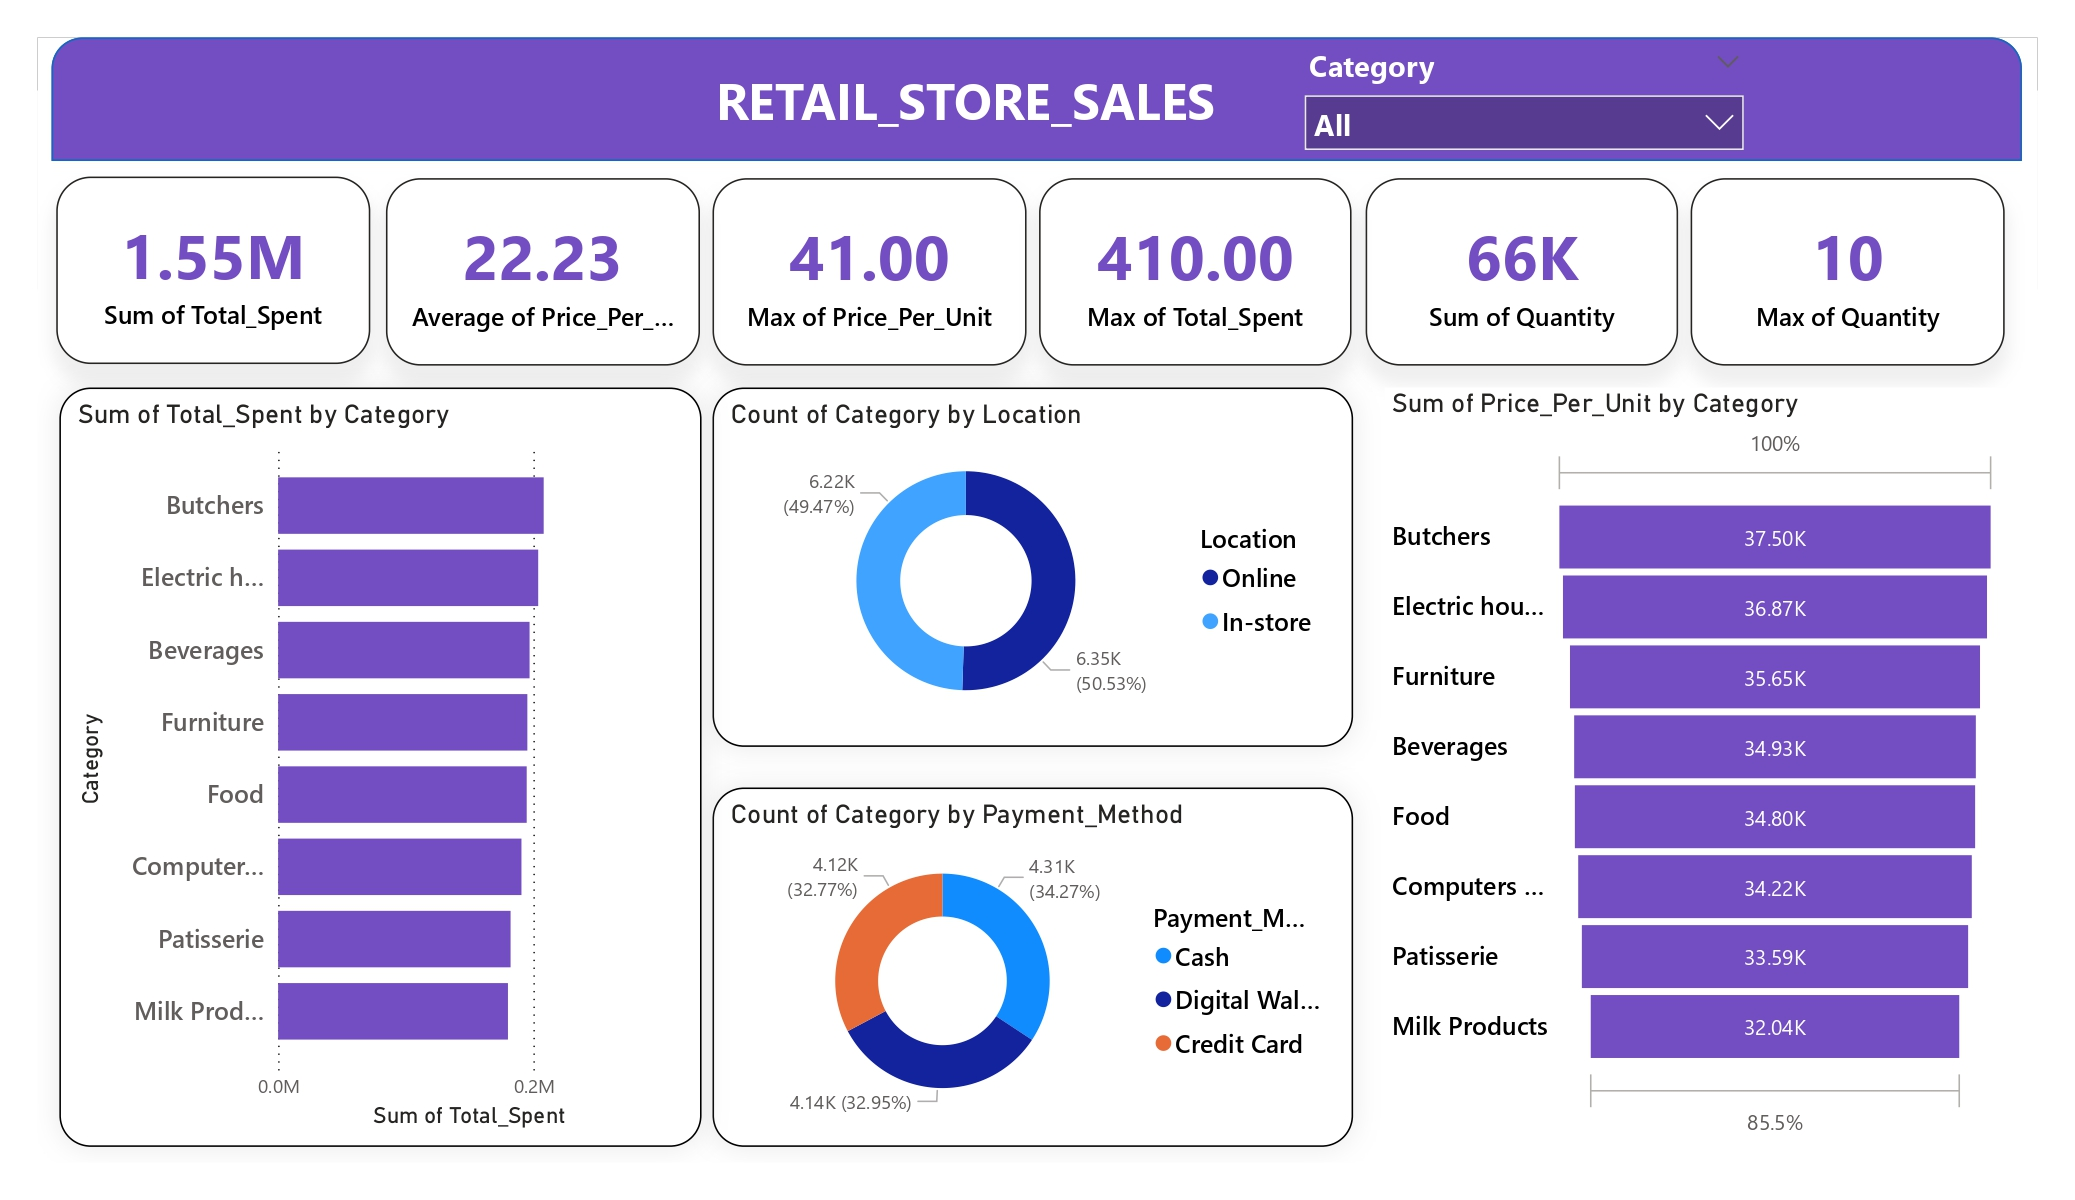

This screenshot's page, from the dashboard's own definition file:
{"tool":"powerbi","page":{"name":"Page 1","canvas":[1280,720],"ordinal":0},"visuals":[{"type":"card","fields":{"Values":["Sum(Sales.Total_Spent)"]},"box":[12.4,88.7,200.8,120],"z":0},{"type":"card","fields":{"Values":["Sum(Sales.Quantity)"]},"box":[849.5,90.3,200.8,120],"z":1000},{"type":"card","fields":{"Values":["Max(Sales.Price_Per_Unit)"]},"box":[431.8,90.3,200.8,120],"z":2000},{"type":"card","fields":{"Values":["Avg(Sales.Price_Per_Unit)"]},"box":[222.9,90.3,200.8,120],"z":3000},{"type":"card","fields":{"Values":["Max(Sales.Quantity)"]},"box":[1058.4,90.3,200.8,120],"z":4000},{"type":"card","fields":{"Values":["Max(Sales.Total_Spent)"]},"box":[640.7,90.3,200.8,120],"z":5000},{"type":"shape","box":[9.1,0,1261.3,78.7],"z":6000},{"type":"textbox","box":[429.1,13,338.4,64.8],"z":7000},{"type":"donutChart","fields":{"Category":["Sales.Payment_Method"],"Y":["CountNonNull(Sales.Category)"]},"box":[431.5,480,410.3,230.2],"z":8000},{"type":"donutChart","fields":{"Category":["Sales.Location"],"Y":["CountNonNull(Sales.Category)"]},"box":[431.5,224.1,410.3,230],"z":9000},{"type":"barChart","fields":{"Category":["Sales.Category"],"Y":["Sum(Sales.Total_Spent)"]},"box":[13.6,224.1,411.9,486.1],"z":10000},{"type":"slicer","fields":{"Values":["Sales.Category"]},"box":[801,0,301.3,80.3],"z":11000},{"type":"funnel","fields":{"Category":["Sales.Category"],"Y":["Sum(Sales.Price_Per_Unit)"]},"box":[861.6,224.1,398.2,486.1],"z":13000}]}

Visuals, with their boxes in screenshot pixels (x1, y1, x2, y2):
card - Sum(Sales.Total_Spent): (57,176,371,364)
card - Sum(Sales.Quantity): (1365,179,1679,366)
card - Max(Sales.Price_Per_Unit): (712,179,1026,366)
card - Avg(Sales.Price_Per_Unit): (386,179,700,366)
card - Max(Sales.Quantity): (1691,179,2005,366)
card - Max(Sales.Total_Spent): (1039,179,1352,366)
shape: (52,38,2022,160)
textbox: (708,58,1237,159)
donutChart - Sales.Payment_Method x CountNonNull(Sales.Category): (712,788,1353,1147)
donutChart - Sales.Location x CountNonNull(Sales.Category): (712,388,1353,747)
barChart - Sales.Category x Sum(Sales.Total_Spent): (59,388,702,1147)
slicer - Sales.Category: (1289,38,1760,163)
funnel - Sales.Category x Sum(Sales.Price_Per_Unit): (1384,388,2006,1147)
